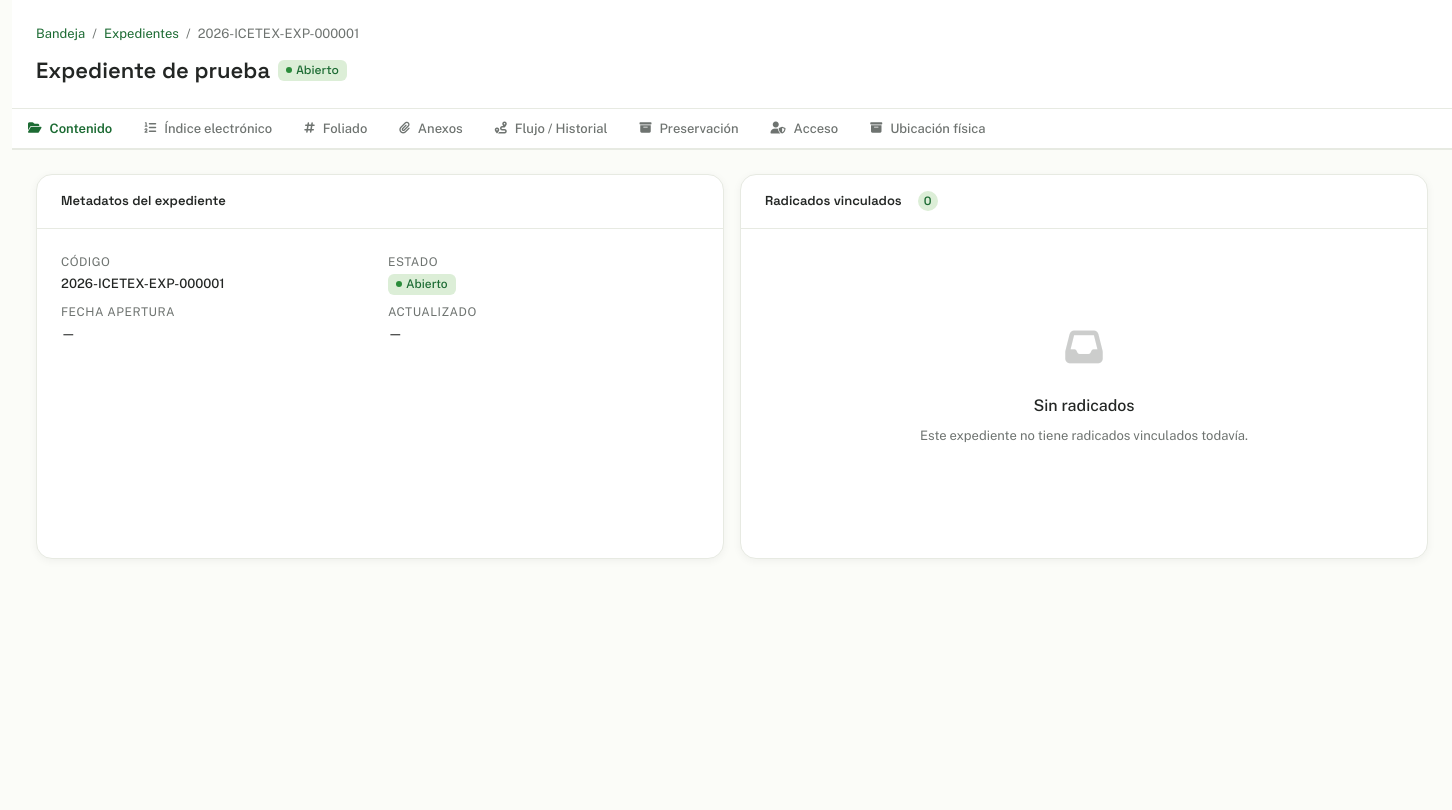
Test: /expedientes/[id] — versiones del AIP › un AIP sin versiones[] no inventa la sección
Click the tab "Preservación" at (689, 130), box [624, 109, 755, 150]
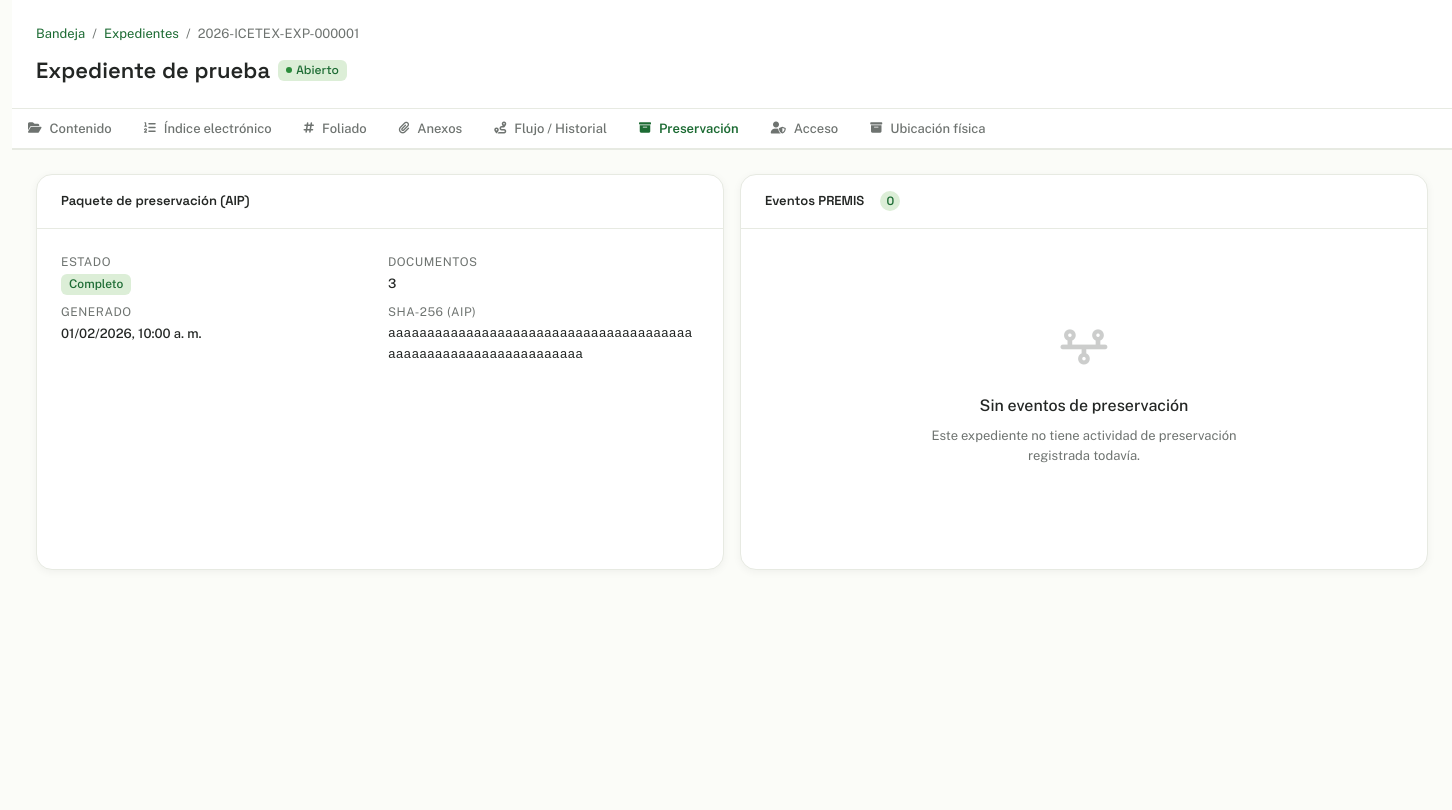
Check: the text "Generado" is shown, box [61, 305, 132, 319]
